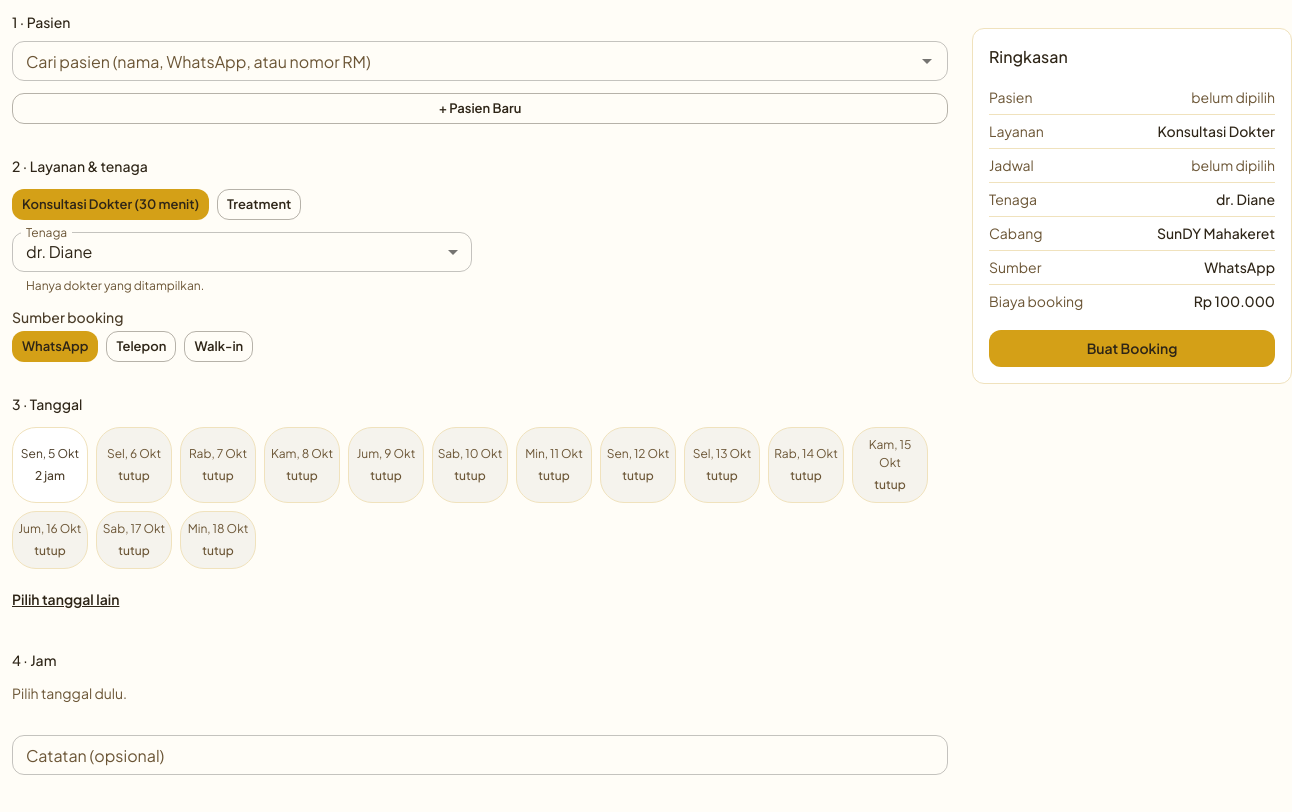
Test case: AppointmentForm › booking tersimpan walau instruksi transfer gagal dimuat
Type "maria" into the dropdown labelled "Cari pasien (nama, WhatsApp, atau nomor RM)" at (464, 61), box x1=18 y1=47 x2=909 y2=75
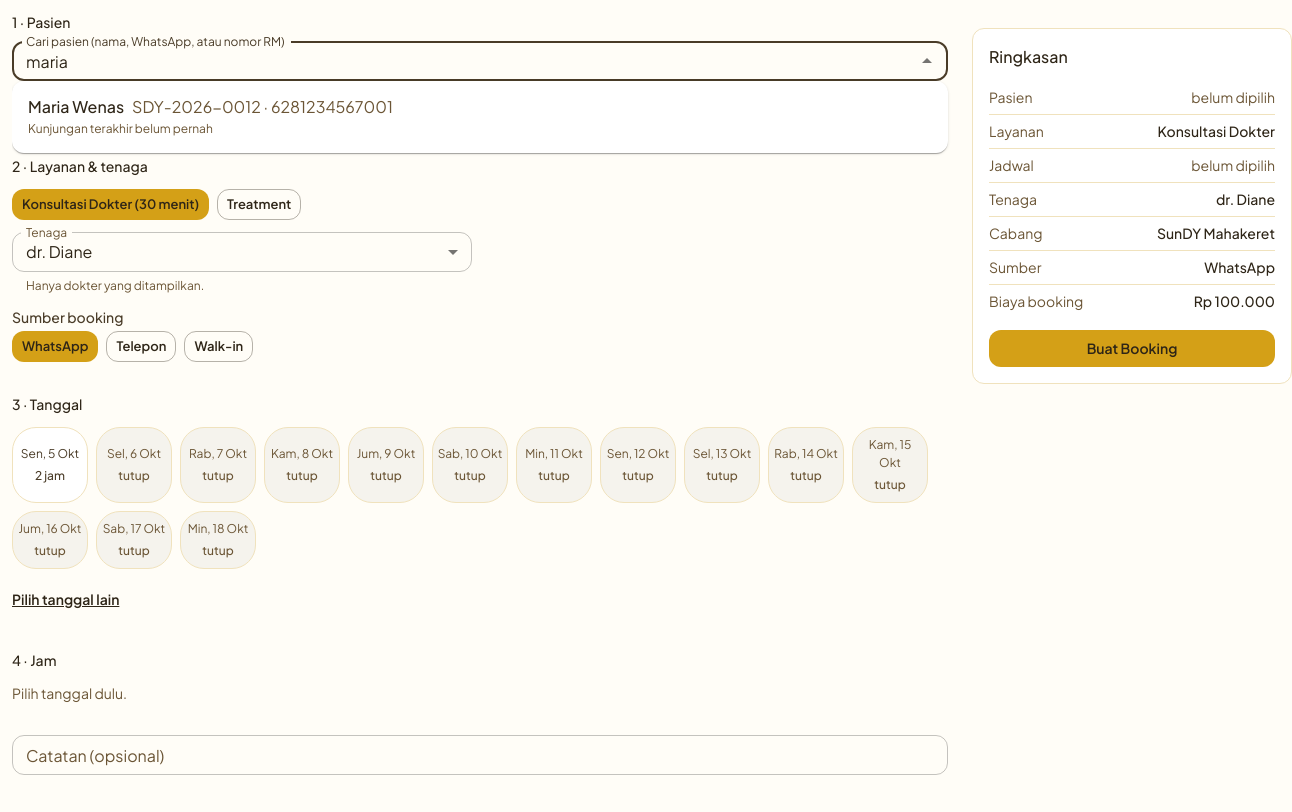
Click the option "Maria Wenas" at (210, 116), box x1=28 y1=96 x2=393 y2=136
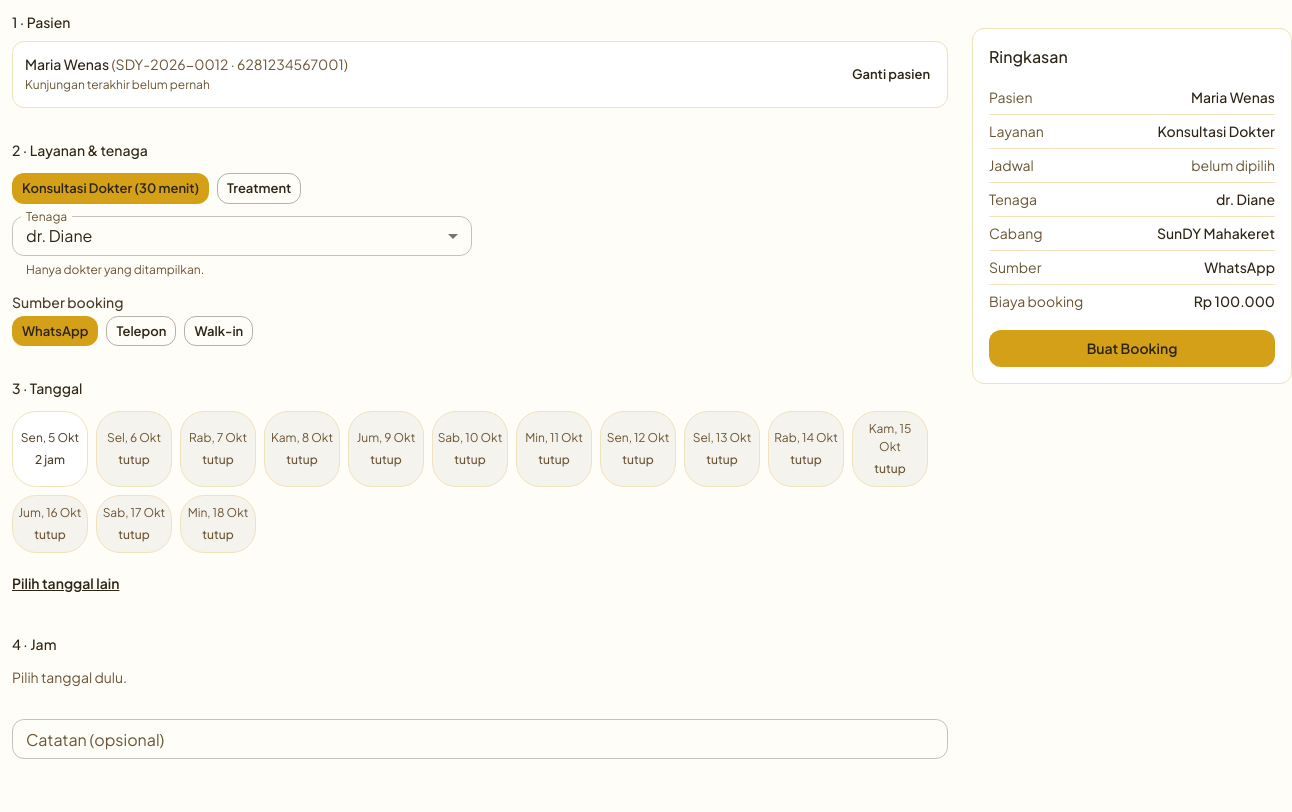
Click the button with aria-label "Senin, 5 Oktober 2026 — 2 jam kosong" at (50, 449), box x1=12 y1=411 x2=88 y2=487
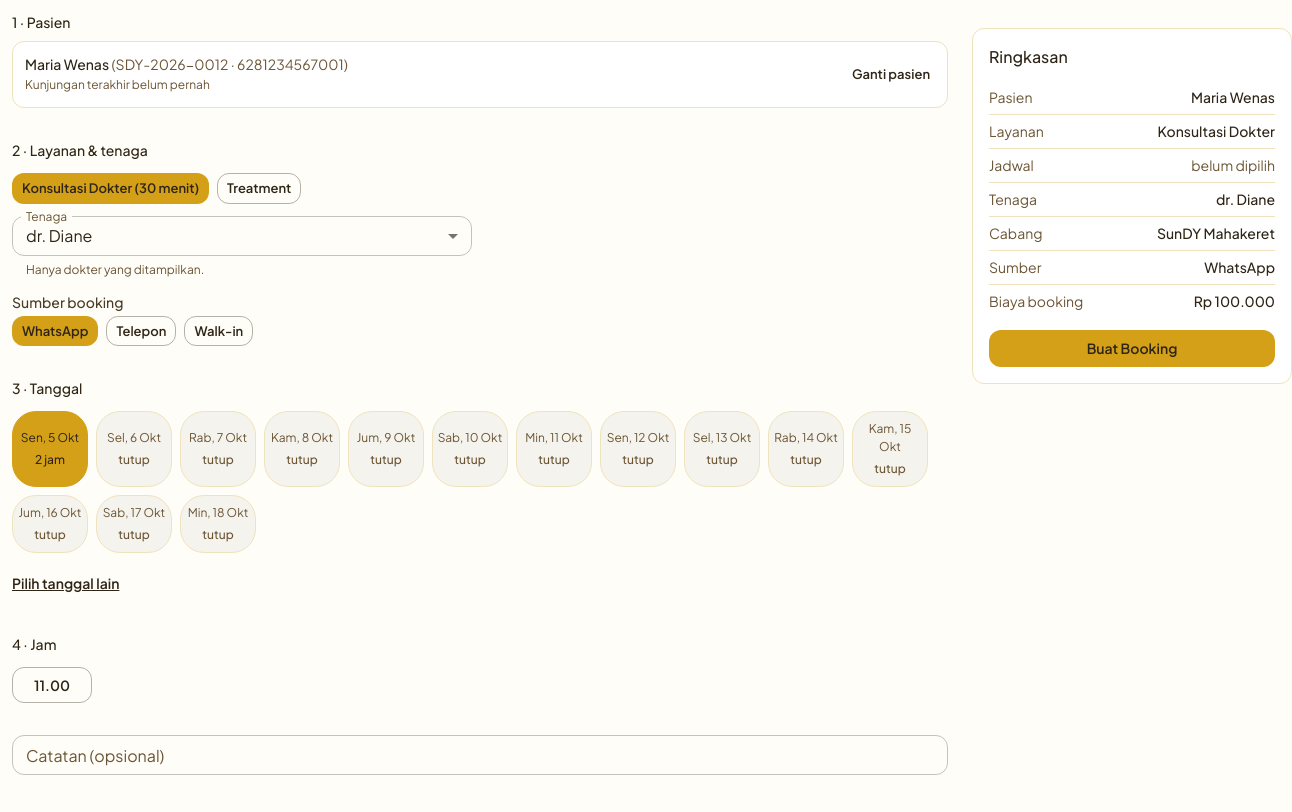
Click the button "11.00" at (52, 685), box x1=12 y1=667 x2=92 y2=703
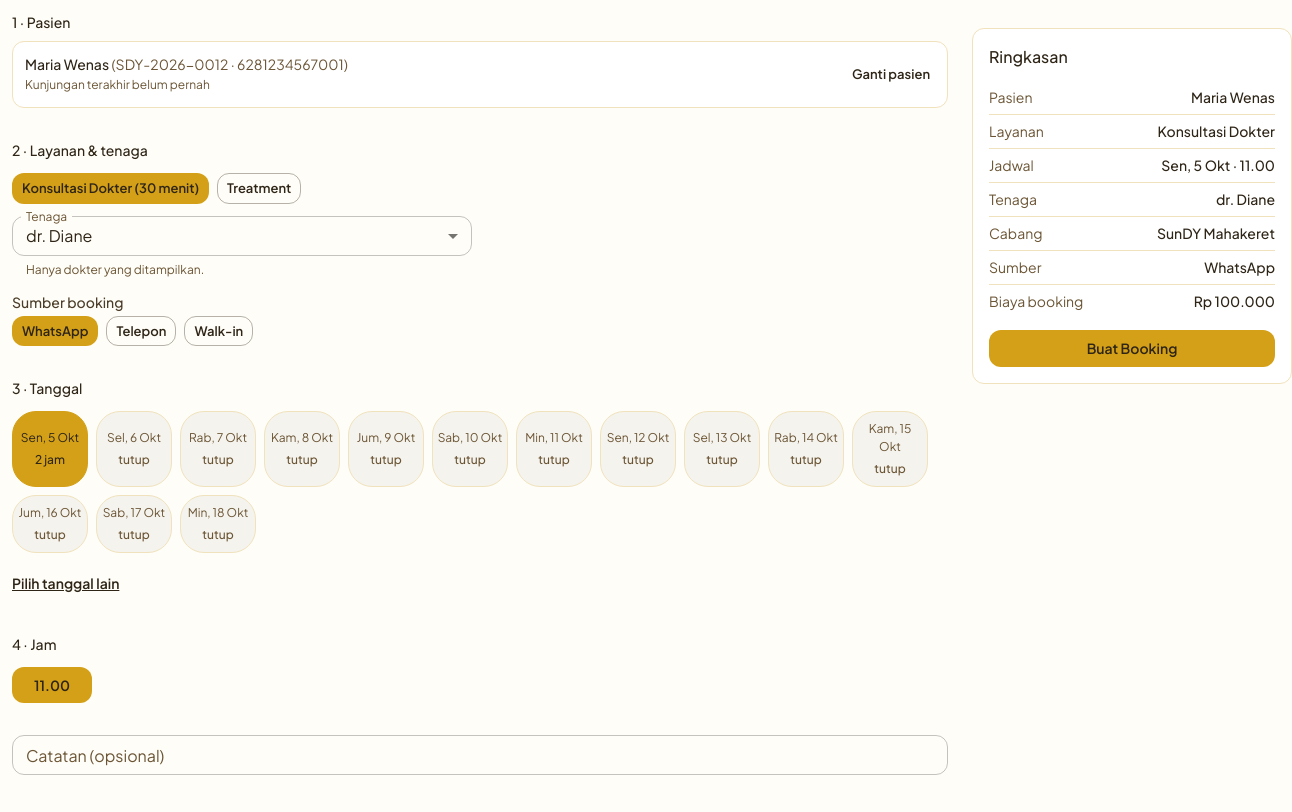
Click the button "Buat Booking" at (1132, 348), box x1=989 y1=330 x2=1275 y2=366
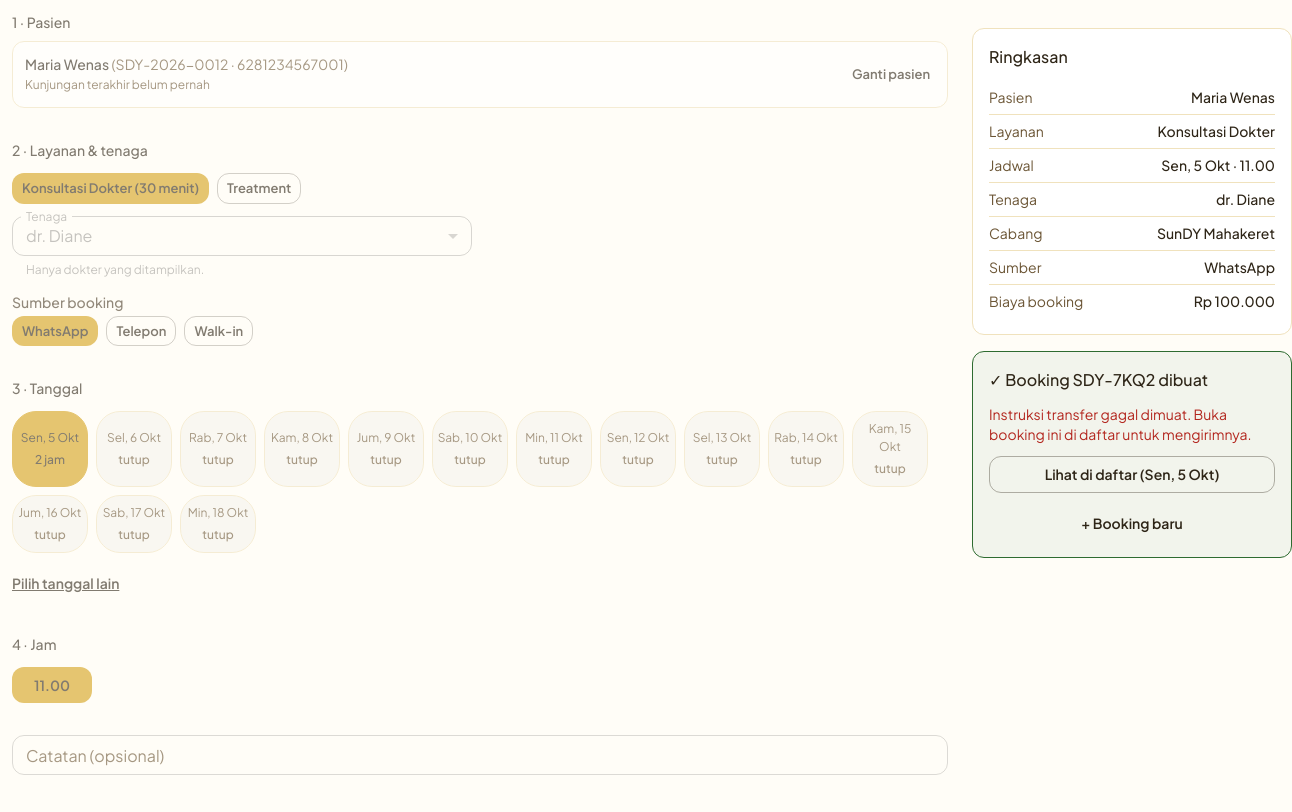
Now the heading "✓ Booking SDY-7KQ2 dibuat" is shown, box x1=989 y1=369 x2=1208 y2=390
Now the text "Instruksi transfer gagal dimuat" is shown, box x1=989 y1=405 x2=1252 y2=443
